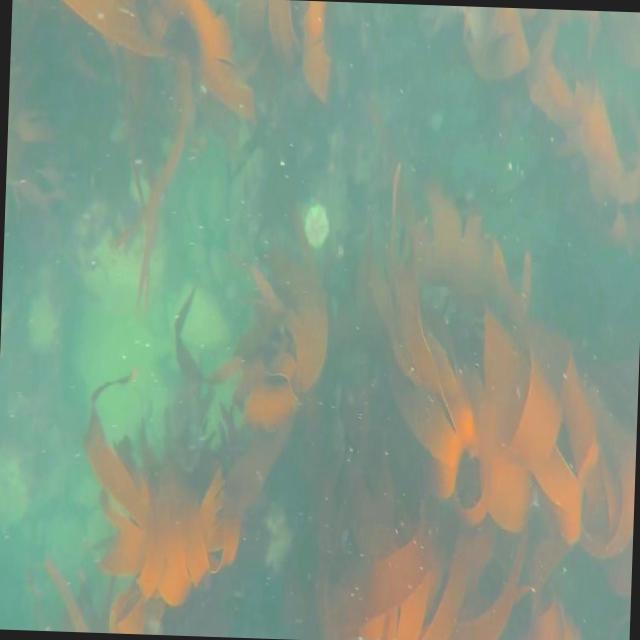Deniz Kestanesi: (302, 202, 328, 248)
